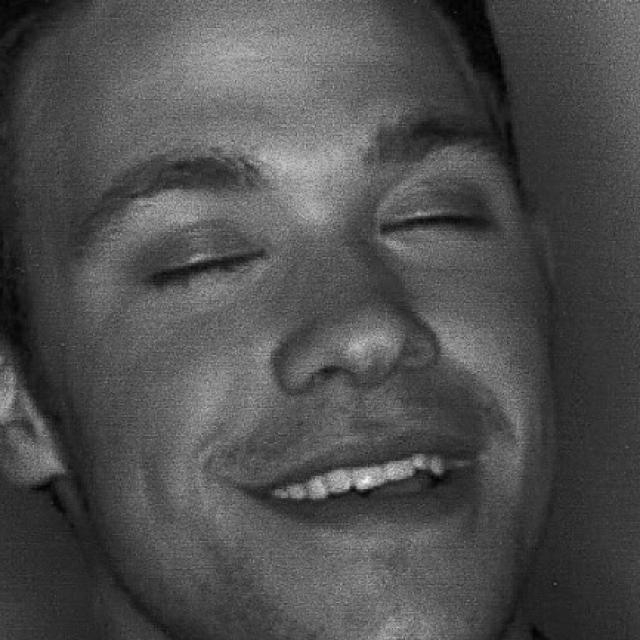real: (18, 1, 560, 640), (118, 194, 514, 294)
